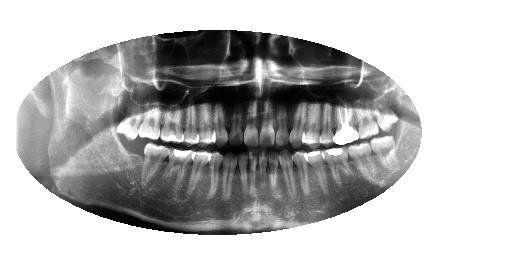i10decay: (239, 150, 250, 204)
i11decay: (221, 151, 237, 205)
i12decay: (208, 148, 225, 201)
i13healthy: (190, 144, 208, 199)
i14healthy: (165, 147, 194, 195)
i15healthy: (139, 143, 169, 186)
i16loss: (120, 143, 142, 182)
i1healthy: (371, 135, 398, 173)
i2healthy: (348, 140, 372, 186)
i3healthy: (324, 145, 348, 191)
i4healthy: (307, 147, 327, 198)
i5healthy: (293, 148, 309, 195)
i6decay: (278, 149, 294, 202)
i7decay: (268, 146, 280, 196)
i8decay: (259, 148, 268, 196)
i9decay: (249, 149, 260, 202)
u10decay: (228, 102, 245, 142)
u11healthy: (216, 100, 229, 144)
u12healthy: (199, 101, 215, 145)
u13healthy: (184, 104, 199, 145)
u14healthy: (161, 107, 184, 143)
u15healthy: (139, 107, 162, 142)
u16healthy: (115, 109, 140, 141)
u1healthy: (376, 105, 401, 136)
u2healthy: (358, 107, 379, 142)
u3healthy: (333, 107, 359, 146)
u4healthy: (320, 105, 334, 141)
u5healthy: (302, 104, 323, 148)
u6decay: (290, 101, 306, 144)
u7decay: (277, 101, 290, 142)
u8decay: (261, 99, 275, 144)
u9healthy: (242, 102, 260, 148)
